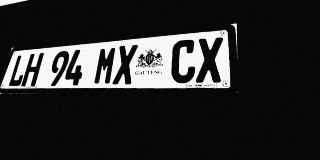4: (63, 49, 87, 86)
9: (47, 50, 71, 86)
C: (170, 39, 197, 83)
H: (21, 53, 44, 86)
L: (7, 54, 30, 87)
M: (93, 46, 118, 85)
X: (196, 37, 223, 83), (112, 44, 138, 85)
